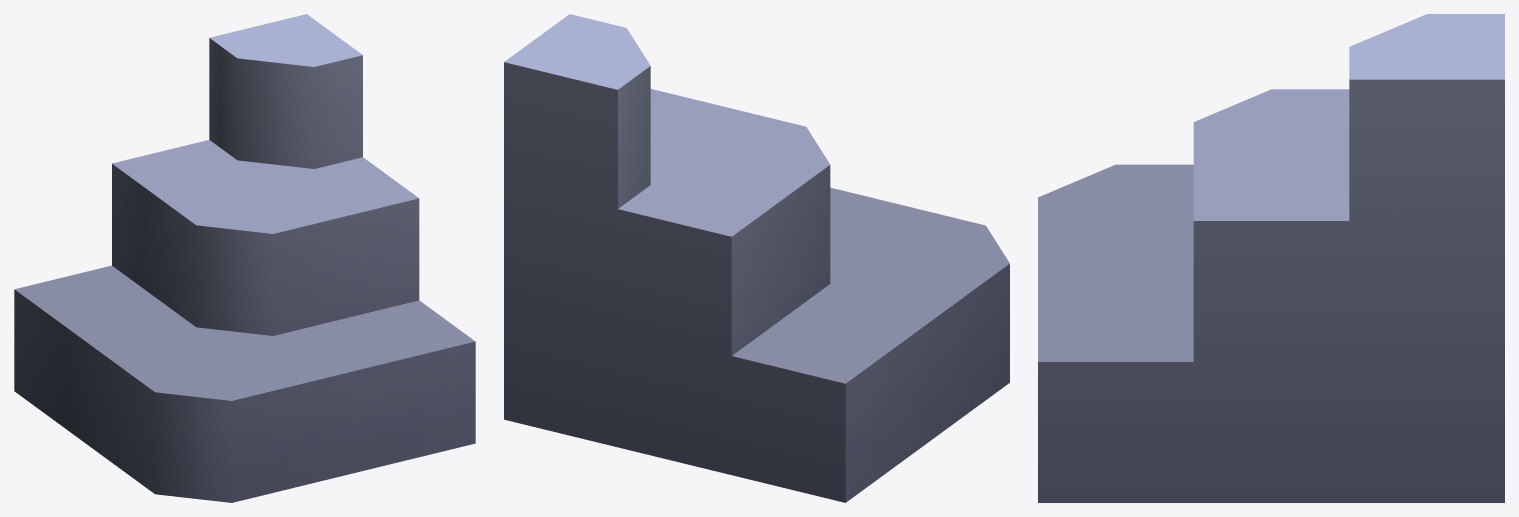
Rendered from kenney-space-station-stairs-small-corner.glb.
3 renders of one model, left to right at view 1: azimuth 30°, elevation 25°; view 2: azimuth 150°, elevation 25°; view 3: azimuth 270°, elevation 25°, orthographic. The views are drawn at different scales.
Parts seen in each view (by area): view 1: stairs-small-corner; view 2: stairs-small-corner; view 3: stairs-small-corner.
Part boxes in pixels (left/top/right/bottom): stairs-small-corner: left=14, top=14, right=475, bottom=502; stairs-small-corner: left=504, top=14, right=1009, bottom=502; stairs-small-corner: left=1038, top=14, right=1504, bottom=502.
Size of the model in its own units: 0.3 by 0.3 by 0.3.
1 material, 1 textured.
